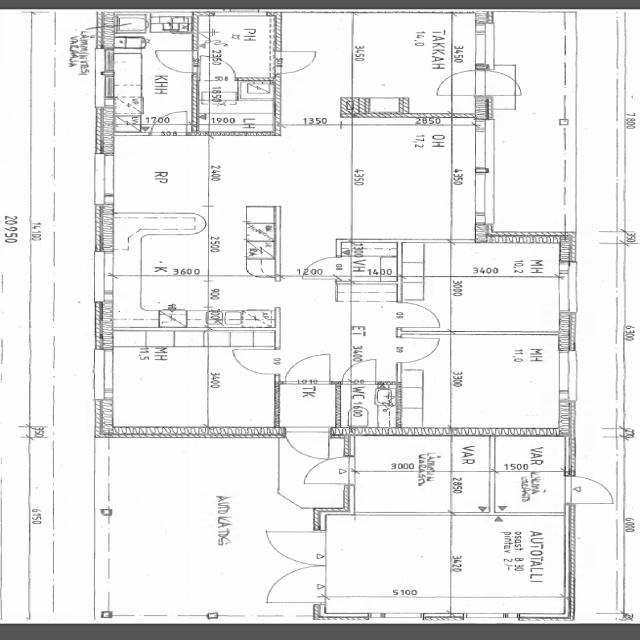door: (262, 563, 326, 605), (262, 528, 327, 566), (282, 350, 336, 385), (299, 455, 354, 487), (560, 474, 615, 506), (282, 426, 332, 461), (228, 346, 280, 376), (395, 300, 445, 331), (395, 334, 444, 364), (478, 69, 521, 97), (152, 48, 196, 74), (434, 70, 477, 96), (276, 49, 318, 74), (342, 358, 381, 384), (302, 256, 340, 278), (151, 109, 191, 129), (204, 58, 238, 80), (450, 236, 483, 258), (183, 212, 210, 234)
window: (88, 347, 119, 402), (553, 348, 581, 402), (89, 251, 118, 302), (91, 153, 118, 201), (470, 171, 494, 219), (470, 22, 495, 68), (554, 272, 579, 316), (362, 610, 428, 622), (96, 71, 117, 102), (460, 611, 521, 621), (98, 48, 115, 74), (216, 8, 263, 17)
zone: (96, 334, 273, 431), (399, 334, 569, 431), (349, 122, 466, 242), (321, 515, 452, 612), (409, 257, 571, 334), (112, 225, 211, 328), (352, 14, 454, 110), (347, 437, 453, 517), (105, 134, 210, 214), (108, 33, 195, 129), (416, 241, 572, 277), (196, 13, 276, 80), (490, 457, 567, 515), (349, 436, 455, 473), (274, 382, 341, 430), (195, 99, 277, 134), (491, 436, 568, 471), (344, 383, 397, 429), (344, 242, 402, 280), (449, 469, 495, 515), (197, 78, 279, 102), (468, 21, 496, 68)
